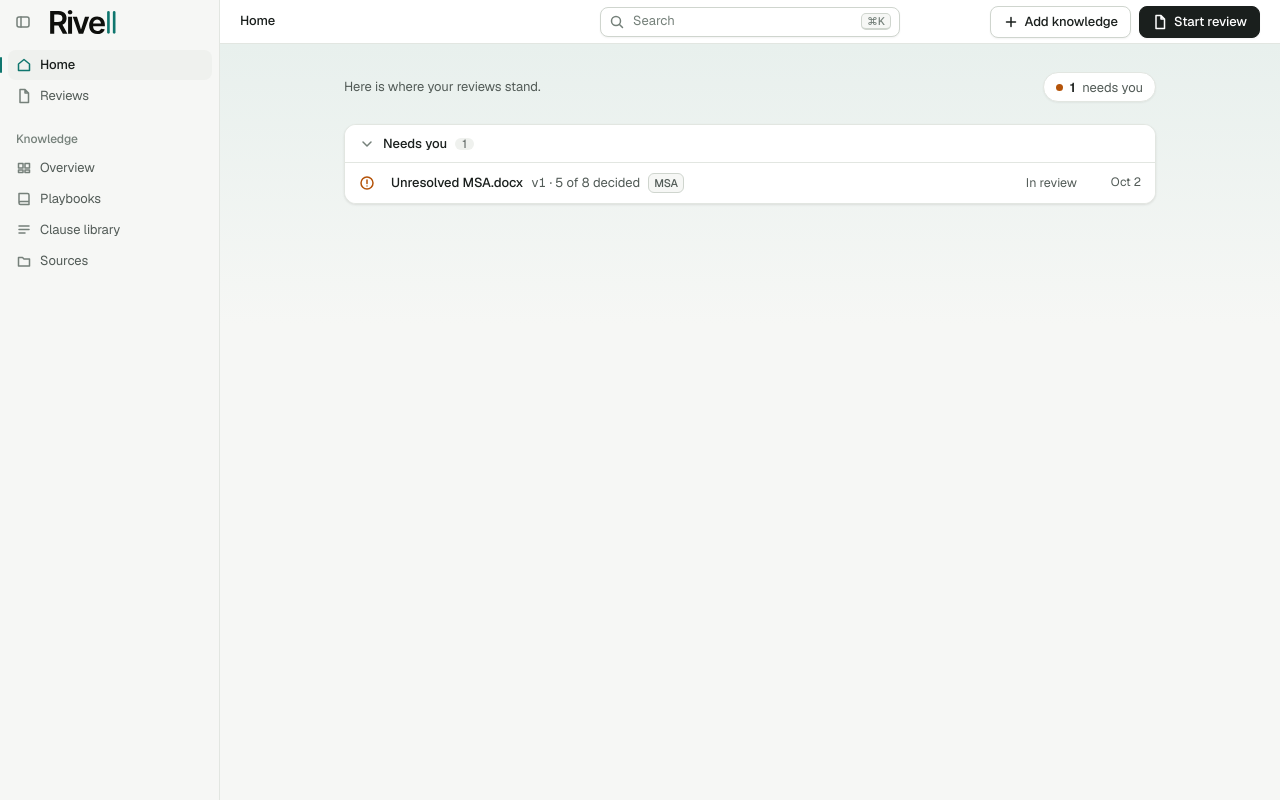
it: sidebar owns its own collapse control › shows no details panel on Home until a row is chosen, and opens a closed panel on choice
The width and height of the screenshot is (1280, 800).
What coordinates should you click on to do the following:
click the option "Unresolved MSA.docx v1 · 5 of 8 decided MSA In review Oct 2"
I would click on:
 (457, 182)
Its box is [345, 163, 1155, 203].
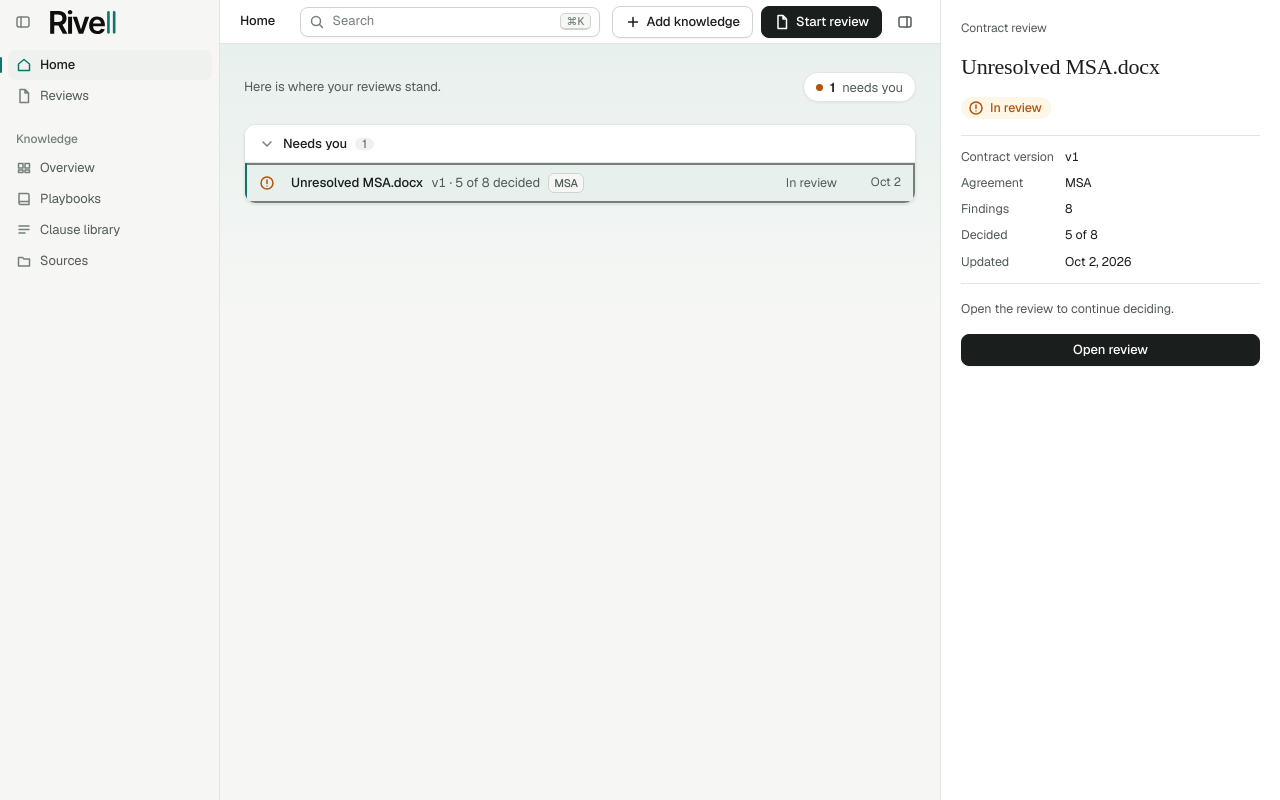
Check: the element named "Details" is shown, box [940, 0, 1279, 799]
